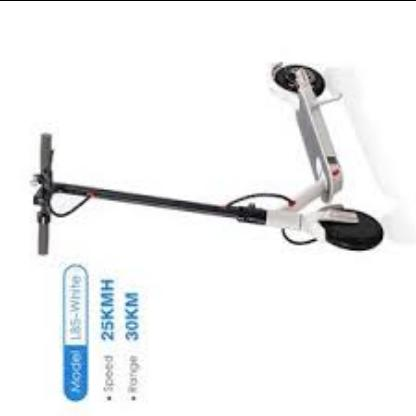bike: (32, 62, 385, 254)
